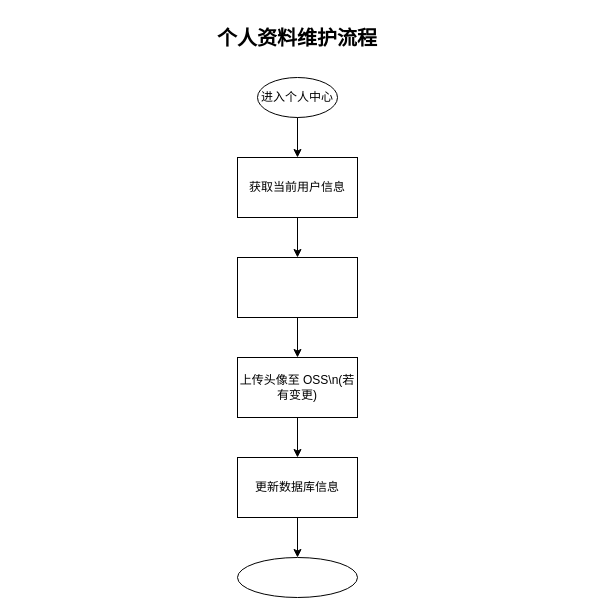
Image size: 594x615. Some labels were removed from this diagram. The shapes that lost their labels are listed below. From the top down, each one's centre as x and y in pixels, then its label:
the point at 297,287: 修改昵称/手机号/头像
the point at 297,577: 更新成功并刷新页面
